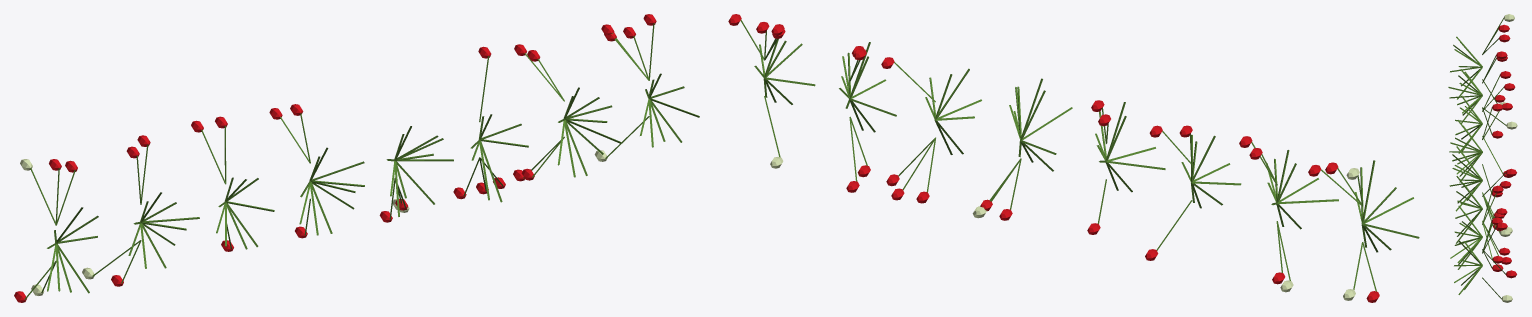
Rendered from r0c5_rest.obj.
3 renders of one model, left to right at view 1: azimuth 30°, elevation 25°; view 2: azimuth 150°, elevation 25°; view 3: azimuth 270°, elevation 25°, orthographic. The views are drawn at different scales.
Visible parts, largest first — view 1: r0c5_rest; view 2: r0c5_rest; view 3: r0c5_rest.
Boxes of the visible parts, box(x1,y1,x2,y2) form: r0c5_rest: box(14, 14, 699, 302); r0c5_rest: box(728, 14, 1419, 302); r0c5_rest: box(1448, 14, 1517, 302).
Size of the model in its own units: 1.94 by 0.4009 by 0.2588.
